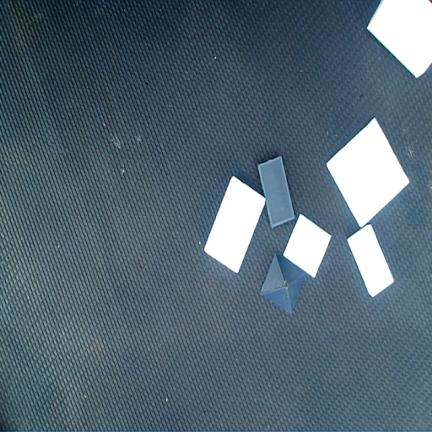Paralelepipedo: (203, 175, 268, 274), (347, 223, 395, 298), (258, 156, 296, 229)
Piramide: (326, 117, 410, 228), (284, 213, 332, 279), (260, 253, 307, 314)
Prisma_hexagonal: (366, 0, 431, 77)
